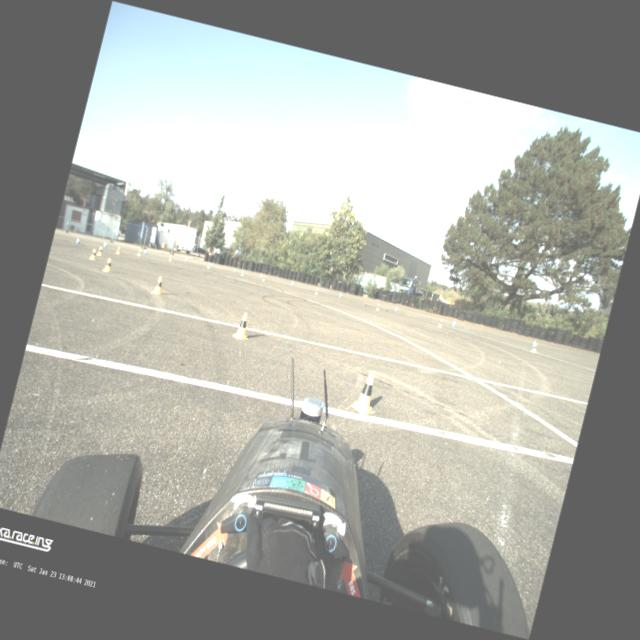blue_cone: (530, 339, 536, 348), (450, 320, 456, 327), (75, 236, 80, 244), (102, 241, 108, 247), (394, 305, 398, 312), (290, 280, 294, 286), (232, 266, 236, 272), (143, 248, 147, 254), (338, 292, 342, 298), (259, 273, 263, 278), (184, 257, 188, 262), (210, 262, 213, 267)
yellow_cone: (348, 368, 384, 418), (232, 311, 254, 341), (151, 276, 165, 294), (102, 256, 114, 272), (530, 341, 540, 353), (88, 248, 96, 260), (437, 318, 443, 328), (96, 246, 102, 256), (375, 302, 381, 310), (168, 254, 172, 262), (137, 248, 141, 256), (116, 246, 120, 254), (262, 274, 266, 281), (314, 288, 318, 294), (240, 270, 244, 276), (207, 262, 210, 268)
